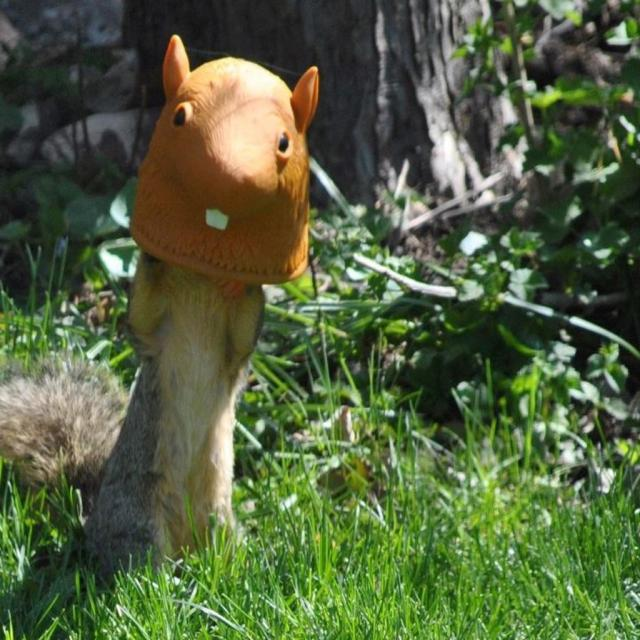Toy: (71, 32, 317, 567)
